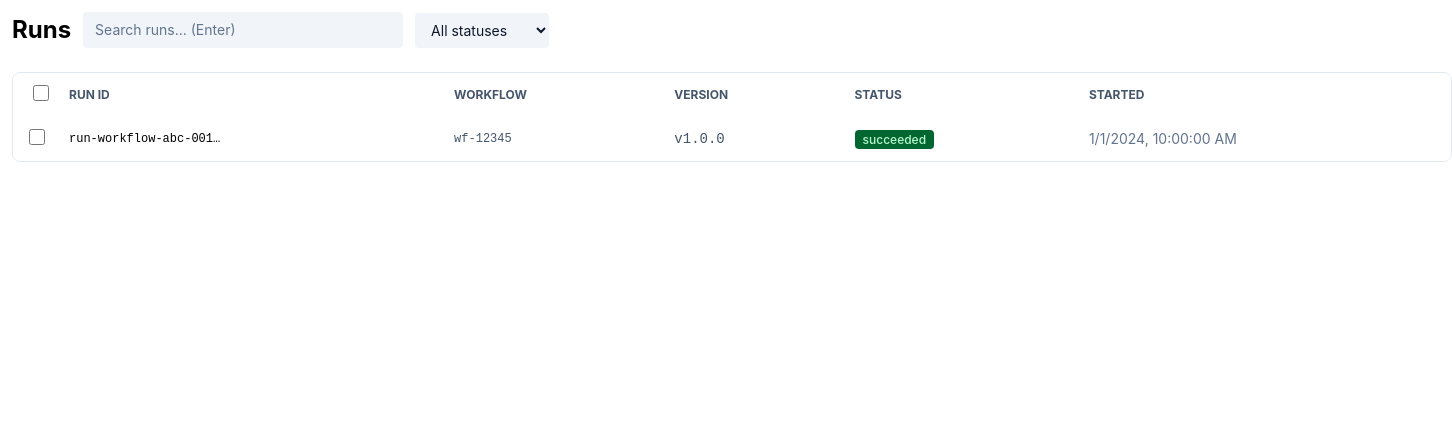
RunsPage › closes detail panel on Close button
This screenshot has width=1452, height=434.
Click the text "succeeded". click: (894, 140)
box: [855,130,934,149]
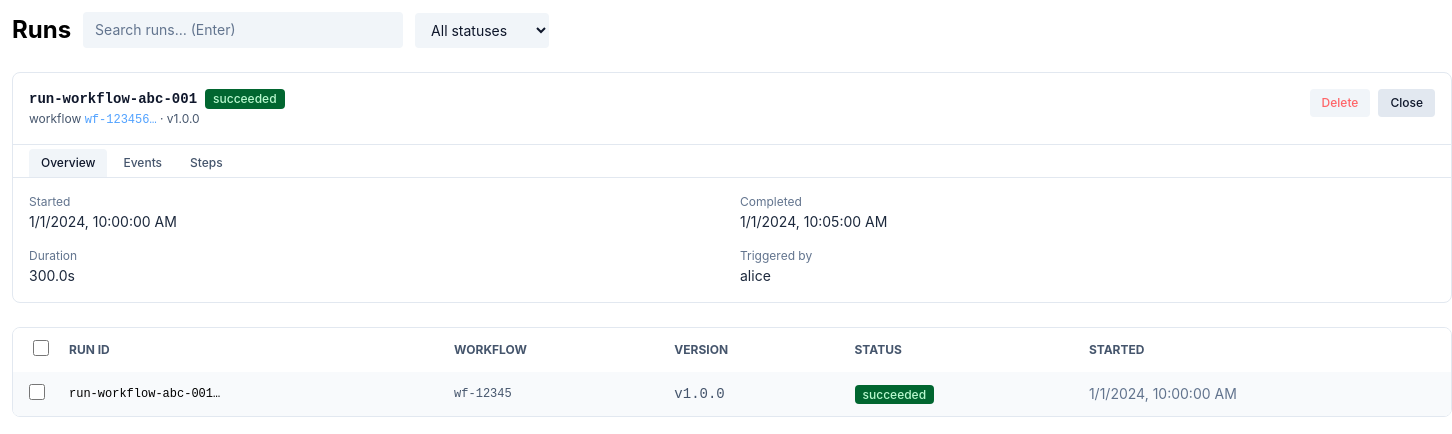
Expected: the button "Overview" is shown, [29,149,108,177]
Click the button "Close". click: (1407, 103)
box: [1378,89,1435,117]
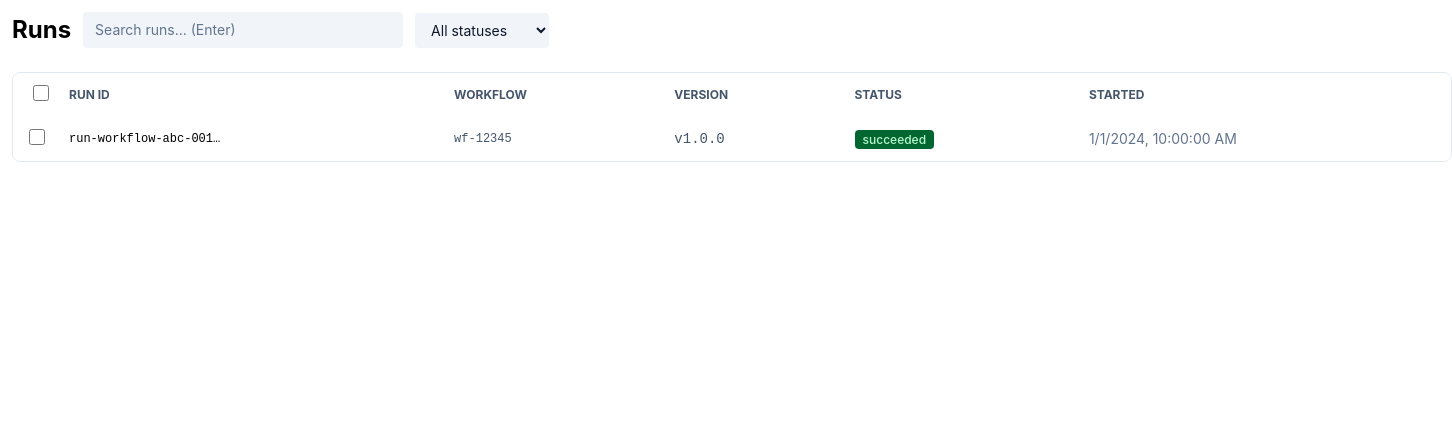
Expected: the button "Overview" is gone
